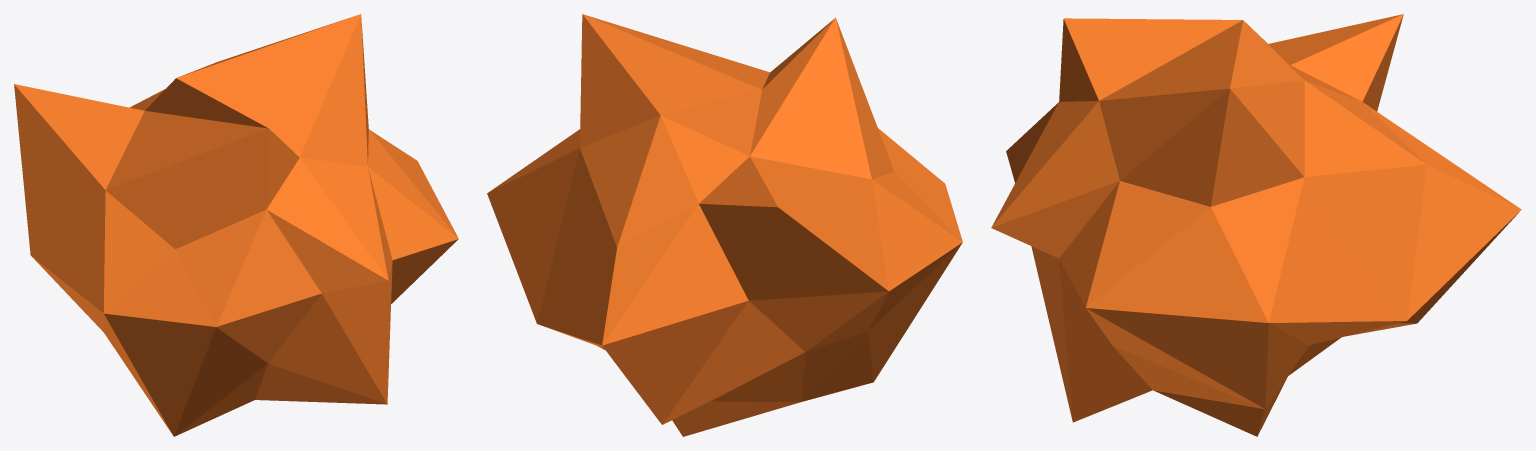
The model's file is explosion.fbx.
The picture shows the model from 3 angles, left to right: view 1: azimuth 30°, elevation 25°; view 2: azimuth 150°, elevation 25°; view 3: azimuth 270°, elevation 25°; orthographic projection. The views are drawn at different scales.
Visible parts, largest first — view 1: Icosphere; view 2: Icosphere; view 3: Icosphere.
Boxes of the visible parts, left/top/right/bottom form: Icosphere: left=14, top=14, right=458, bottom=436; Icosphere: left=487, top=14, right=962, bottom=436; Icosphere: left=991, top=14, right=1521, bottom=436.
Bounding box in the file's own units: 261 × 240 × 283.
Materials: 1 (1 with a texture image).
